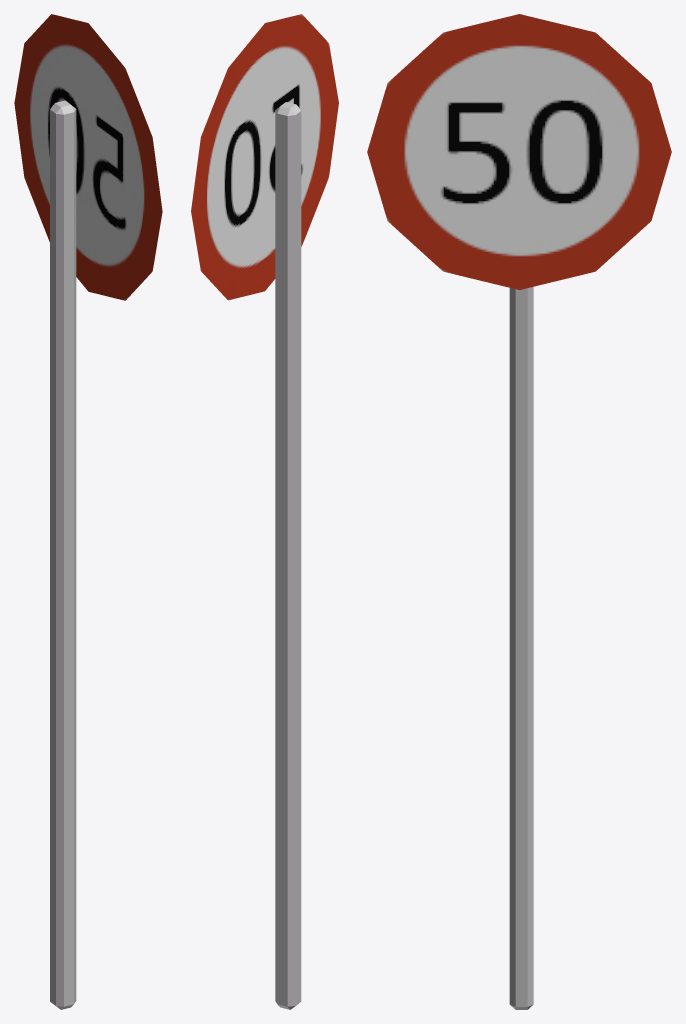
File: 50KSign.fbx
3 renders of one model, left to right at view 1: azimuth 30°, elevation 25°; view 2: azimuth 150°, elevation 25°; view 3: azimuth 270°, elevation 25°, orthographic. The views are drawn at different scales.
Visible parts, largest first — view 1: kmphSign2; view 2: kmphSign2; view 3: kmphSign2.
Part boxes in pixels (x1,y1,x2,y2): kmphSign2: (14,14,162,1009); kmphSign2: (191,14,338,1009); kmphSign2: (367,14,671,1009).
Size of the model in its own units: 0.217 by 5.88 by 1.62.
